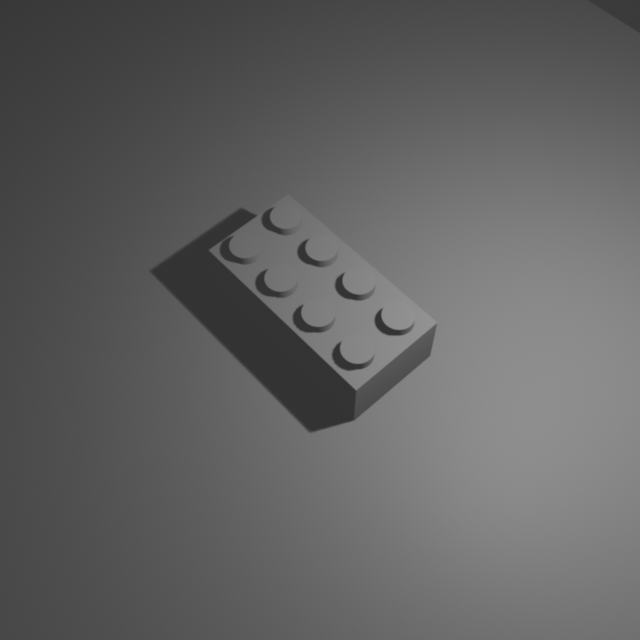lego_2x4: (207, 187, 439, 421)
